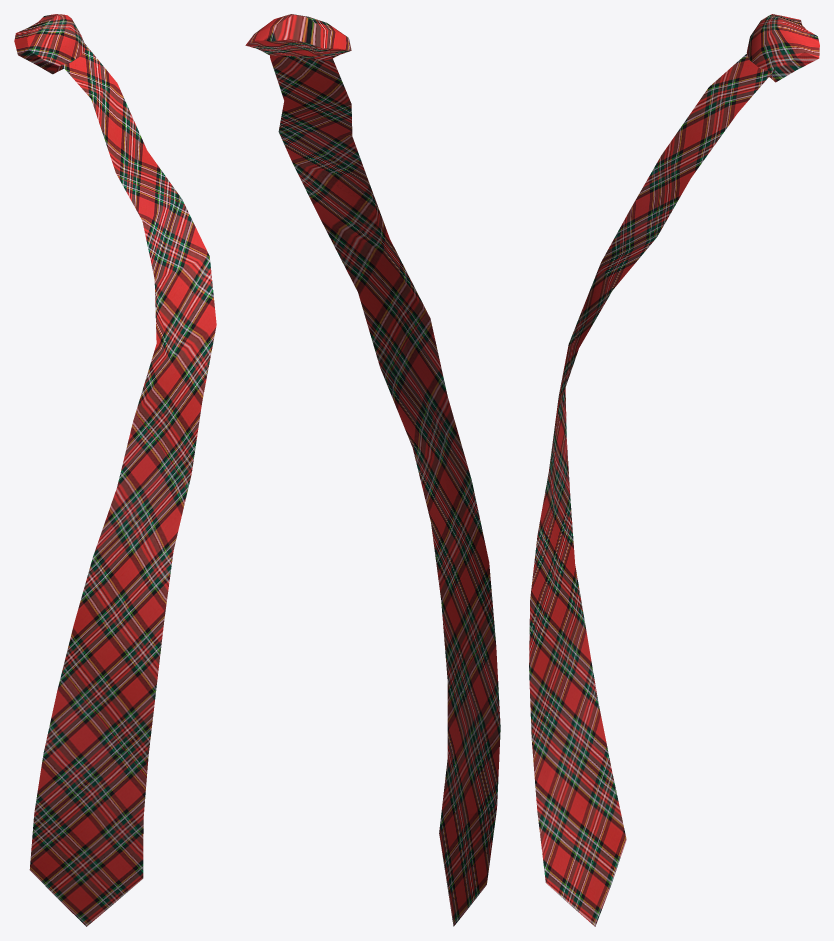
File: Pose-12_Tie-1.fbx
3 renders of one model, left to right at view 1: azimuth 30°, elevation 25°; view 2: azimuth 150°, elevation 25°; view 3: azimuth 270°, elevation 25°, orthographic. The views are drawn at different scales.
Visible parts, largest first — view 1: Pose-12_Tie-1; view 2: Pose-12_Tie-1; view 3: Pose-12_Tie-1.
Part boxes in pixels (<box>): Pose-12_Tie-1: <box>14,14,216,926</box>; Pose-12_Tie-1: <box>245,14,500,926</box>; Pose-12_Tie-1: <box>529,14,819,926</box>.
Size of the model in its own units: 12.29 by 55.83 by 15.73.
